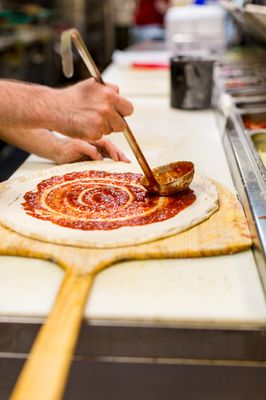sandwich: (119, 113, 163, 194)
